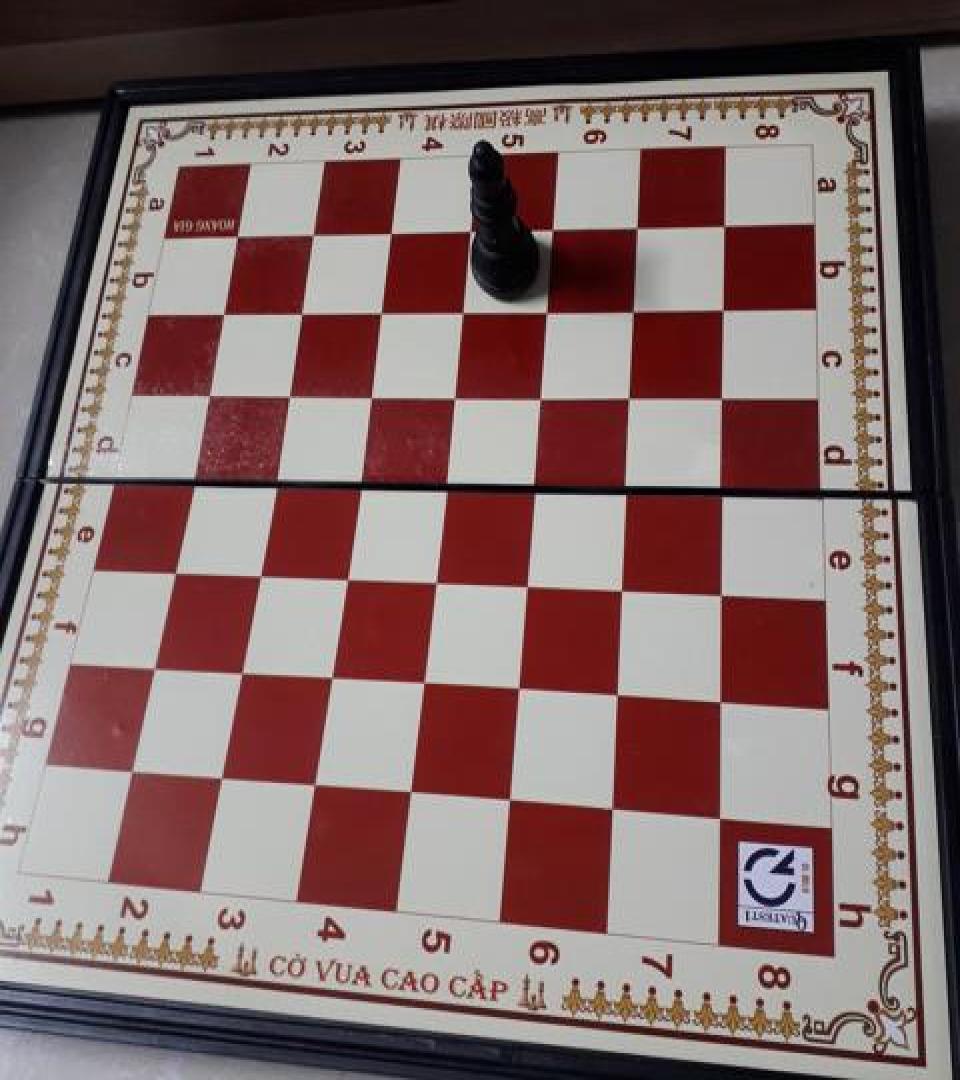xcorner: (616, 290, 650, 329), (529, 290, 563, 329), (444, 291, 478, 330), (361, 291, 395, 330), (338, 462, 372, 501), (114, 749, 148, 788), (707, 207, 741, 245), (620, 208, 654, 246), (535, 210, 569, 248), (452, 212, 486, 250), (372, 214, 406, 252), (294, 215, 328, 253), (218, 216, 252, 254), (706, 289, 740, 327), (281, 292, 315, 330), (203, 292, 237, 330), (706, 378, 740, 416), (613, 377, 647, 415), (522, 376, 556, 414), (435, 376, 469, 414), (350, 375, 384, 413), (268, 374, 302, 412), (188, 374, 222, 412), (705, 472, 739, 510), (609, 469, 643, 507), (516, 467, 550, 505), (425, 465, 459, 503), (253, 460, 287, 498), (171, 459, 205, 497), (704, 573, 738, 611), (604, 568, 638, 606), (508, 564, 542, 602), (415, 560, 449, 598), (325, 557, 359, 595), (238, 552, 272, 590), (153, 549, 187, 587), (703, 680, 737, 718), (600, 674, 634, 712), (501, 668, 535, 706), (404, 663, 438, 701), (312, 657, 346, 695), (222, 652, 256, 690), (134, 646, 168, 684), (702, 796, 736, 834), (595, 788, 629, 826), (492, 780, 526, 818), (393, 772, 427, 810), (297, 764, 331, 802), (204, 756, 238, 794)
